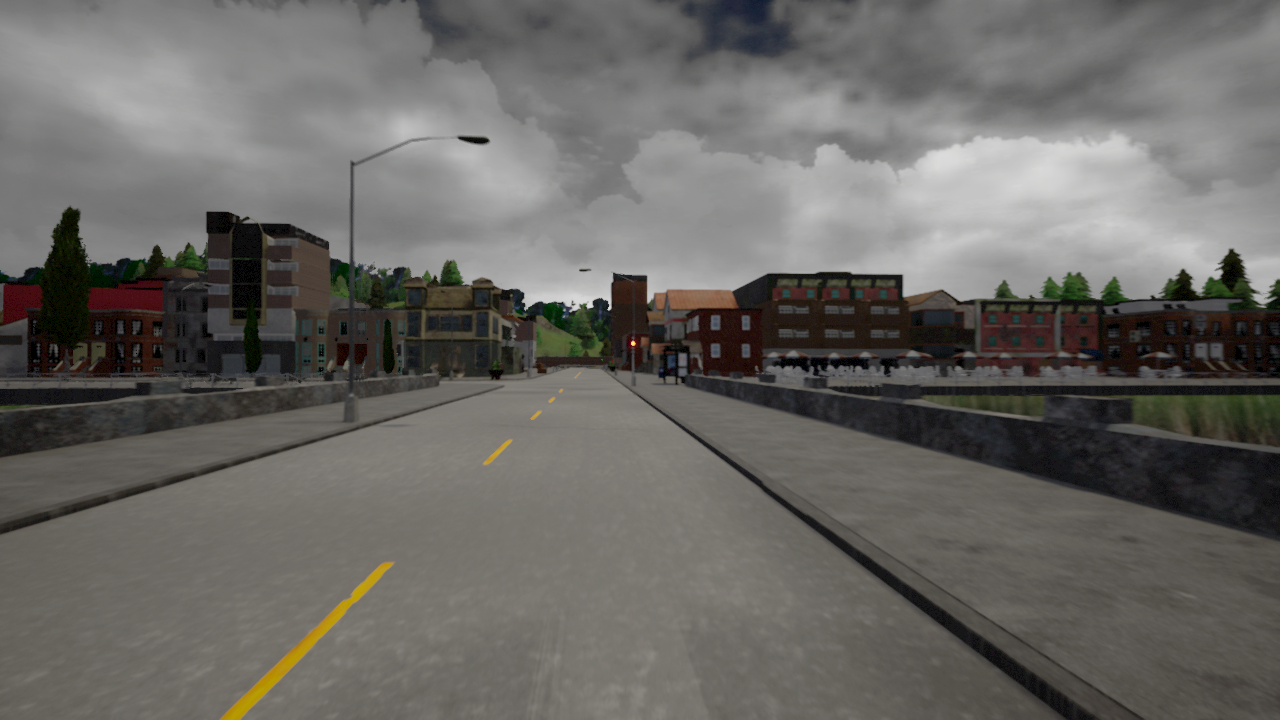red: (630, 339, 636, 354)
